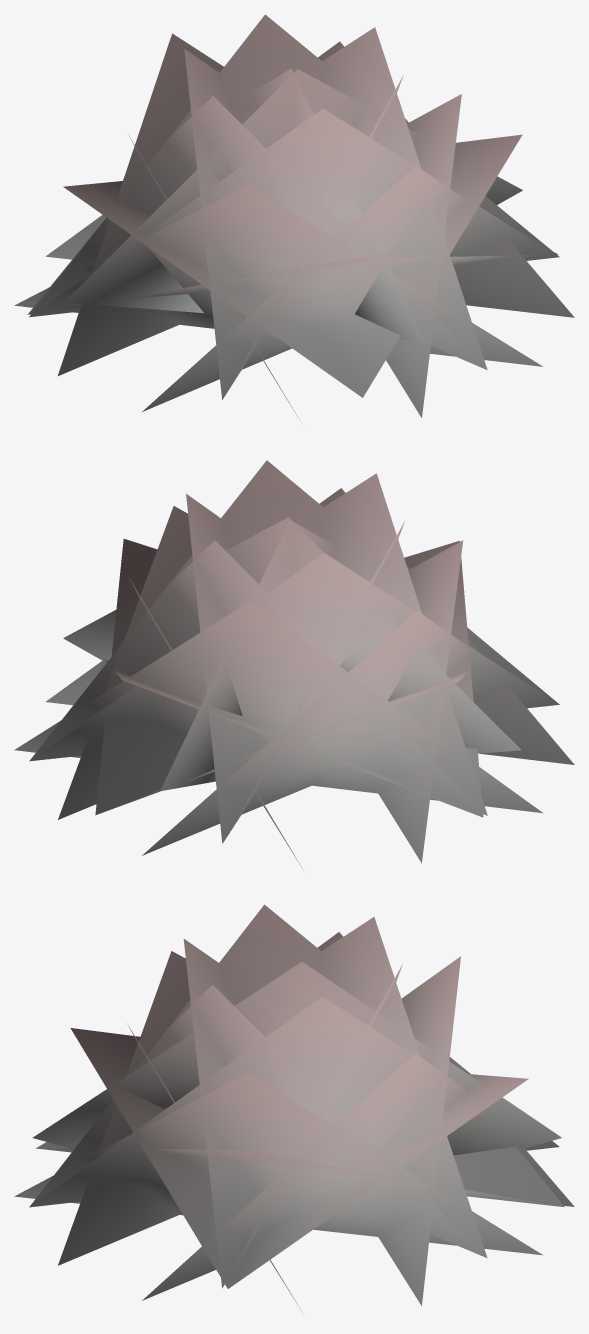
3 views of the same model, one above another, from view 1: azimuth 30°, elevation 25°; view 2: azimuth 150°, elevation 25°; view 3: azimuth 270°, elevation 25° (orthographic).
Parts seen in each view (by area): view 1: G:\FFXIV-MapTools\exports\s1f1\bg\ffxiv\sea_s1\fld\s1f1\bgpa; view 2: G:\FFXIV-MapTools\exports\s1f1\bg\ffxiv\sea_s1\fld\s1f1\bgpa; view 3: G:\FFXIV-MapTools\exports\s1f1\bg\ffxiv\sea_s1\fld\s1f1\bgpa.
Boxes of the visible parts, x1,y1,x2,y2 form: G:\FFXIV-MapTools\exports\s1f1\bg\ffxiv\sea_s1\fld\s1f1\bgpa: (14, 14, 574, 421); G:\FFXIV-MapTools\exports\s1f1\bg\ffxiv\sea_s1\fld\s1f1\bgpa: (14, 460, 574, 870); G:\FFXIV-MapTools\exports\s1f1\bg\ffxiv\sea_s1\fld\s1f1\bgpa: (14, 904, 574, 1310).
Bounding box in the file's own units: 3.91 × 2.01 × 3.91.
